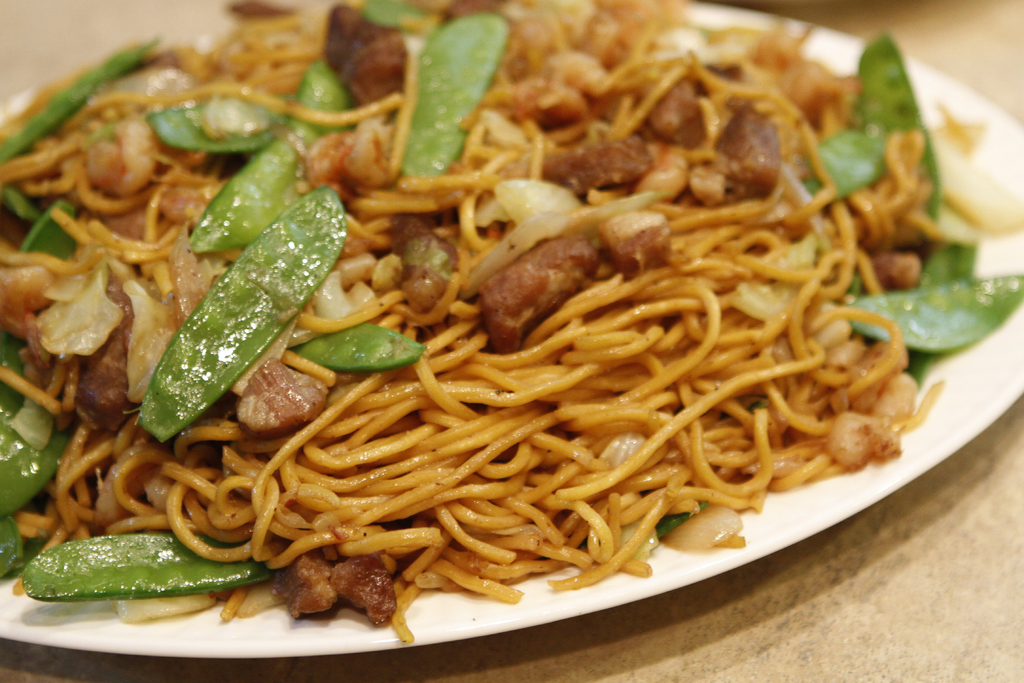pasta: (0, 9, 973, 638)
